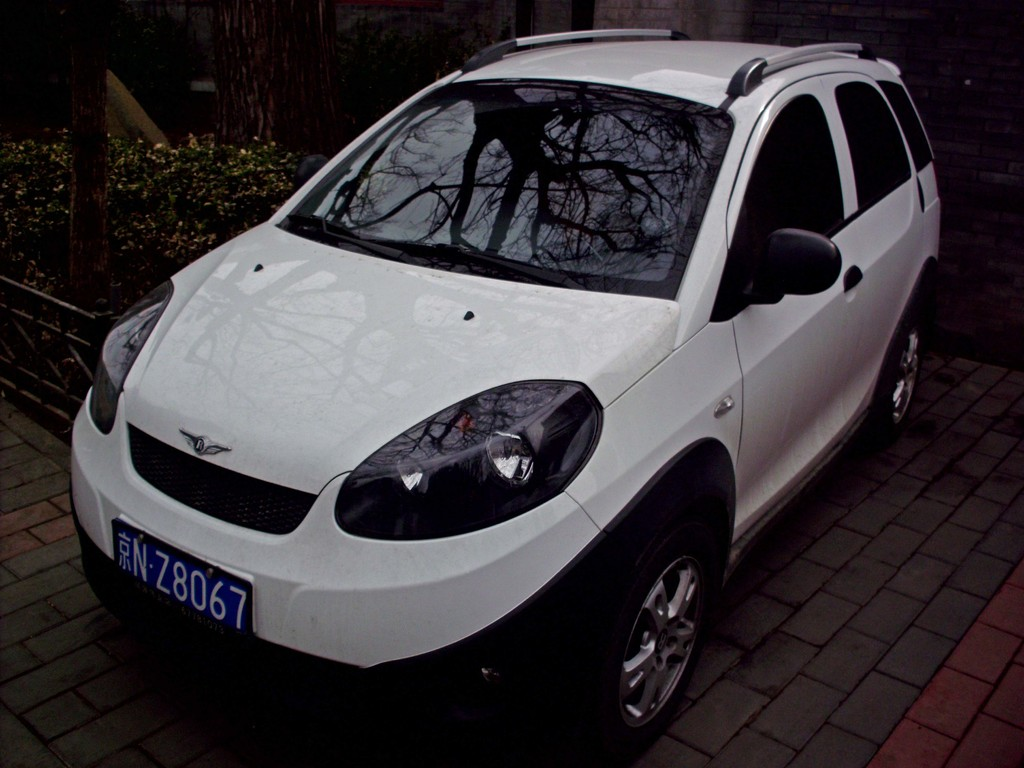Car: (68, 24, 942, 759)
